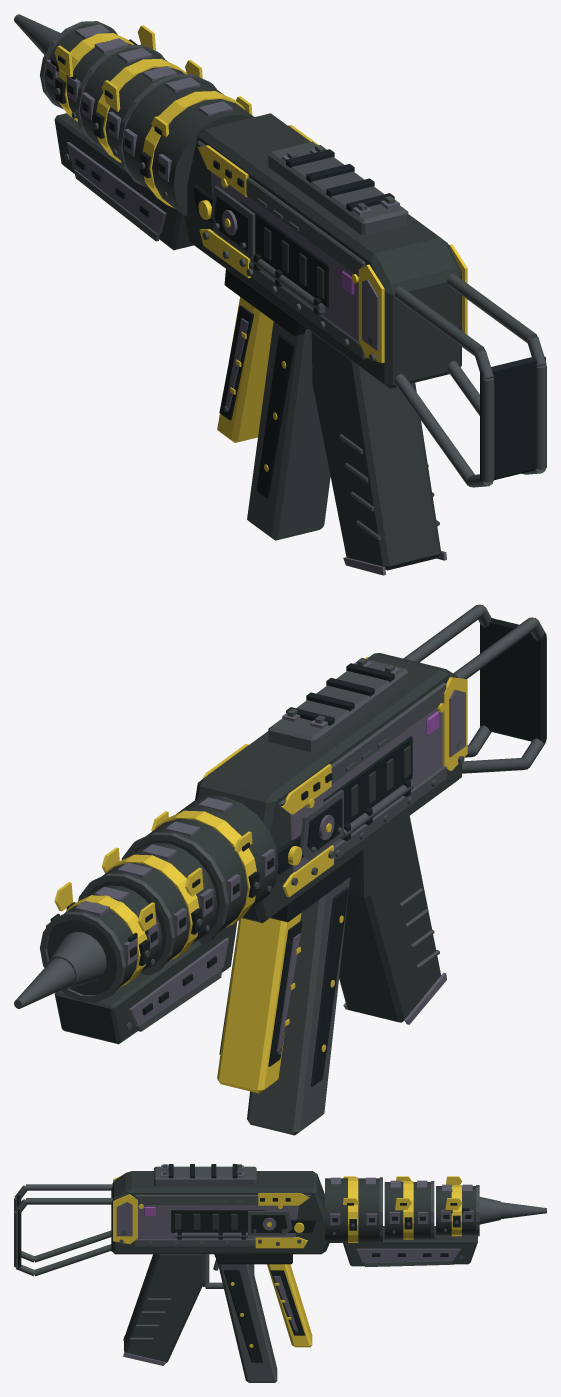
File: smg_3.glb
3 renders of one model, top to bottom at view 1: azimuth 30°, elevation 25°; view 2: azimuth 150°, elevation 25°; view 3: azimuth 270°, elevation 25°, orthographic. The views are drawn at different scales.
Visible parts, largest first — view 1: Weapon_smg_v1; view 2: Weapon_smg_v1; view 3: Weapon_smg_v1.
Part boxes in pixels (x1,y1,x2,y2): Weapon_smg_v1: [14, 14, 546, 575]; Weapon_smg_v1: [14, 604, 546, 1135]; Weapon_smg_v1: [14, 1164, 546, 1382].
Bounding box in the file's own units: 0.084 × 0.2695 × 0.624.
